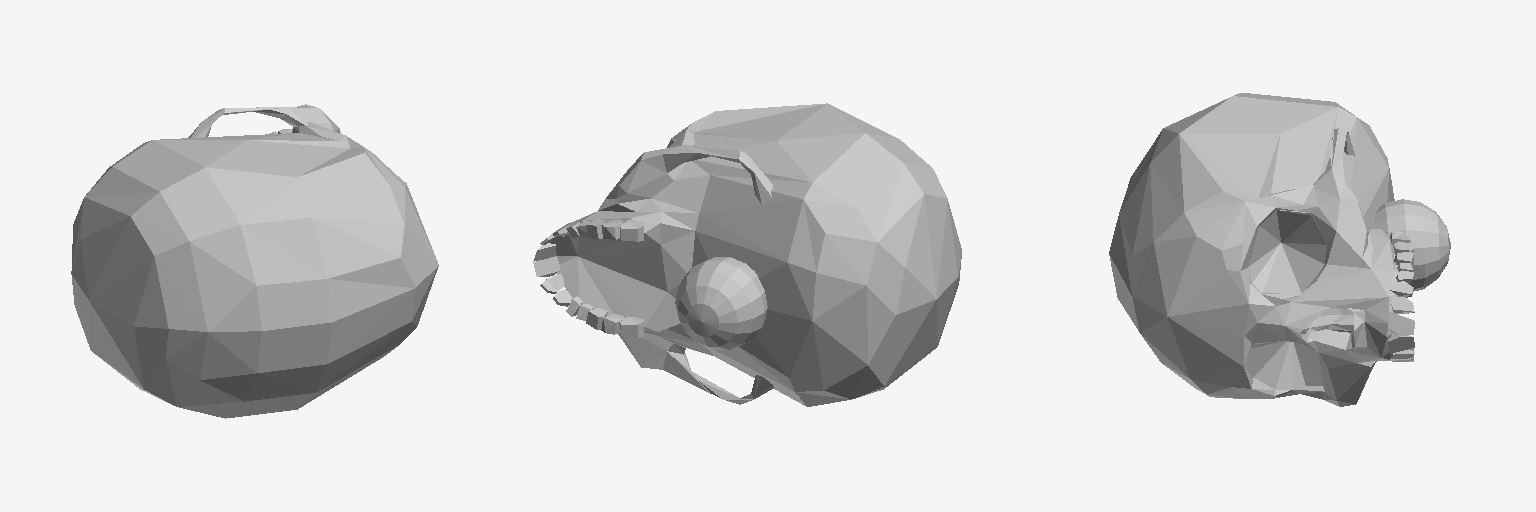
The model's file is Oddball.obj.
3 views of the same model, side by side, from view 1: azimuth 30°, elevation 25°; view 2: azimuth 150°, elevation 25°; view 3: azimuth 270°, elevation 25° (orthographic).
Visible parts, largest first — view 1: __unnamed; view 2: __unnamed, _ground_point; view 3: __unnamed, _ground_point.
Boxes of the visible parts, box(x1,y1,x2,y2) form: __unnamed: box(71, 104, 438, 418); __unnamed: box(533, 103, 961, 406); _ground_point: box(675, 257, 767, 349); __unnamed: box(1109, 93, 1414, 406); _ground_point: box(1373, 199, 1450, 291).
Bounding box in the file's own units: 8.19 × 5.92 × 7.23.